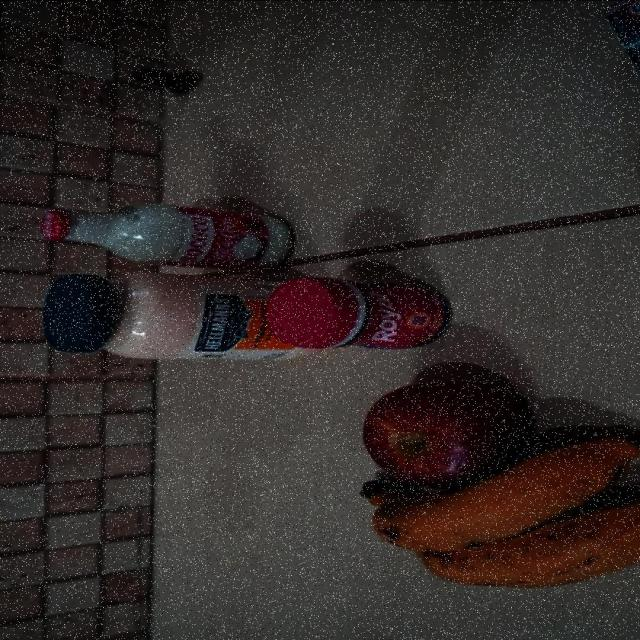Apple: (360, 376, 530, 482)
Banana: (358, 485, 640, 587)
CoconutMilk: (41, 201, 293, 265)
Gelatine: (604, 1, 640, 128)
Mayonnaise: (34, 273, 256, 360)
Yeast: (260, 276, 453, 352)
